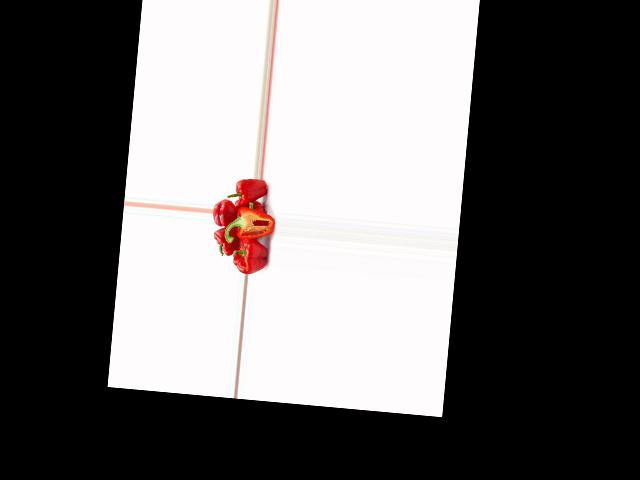bell_pepper: (211, 225, 238, 257)
